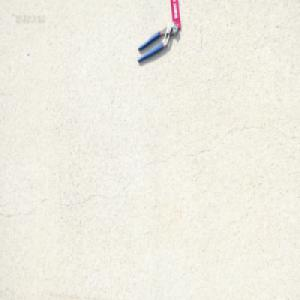Label: (170, 0, 181, 31)
Pliers: (136, 20, 178, 63)
